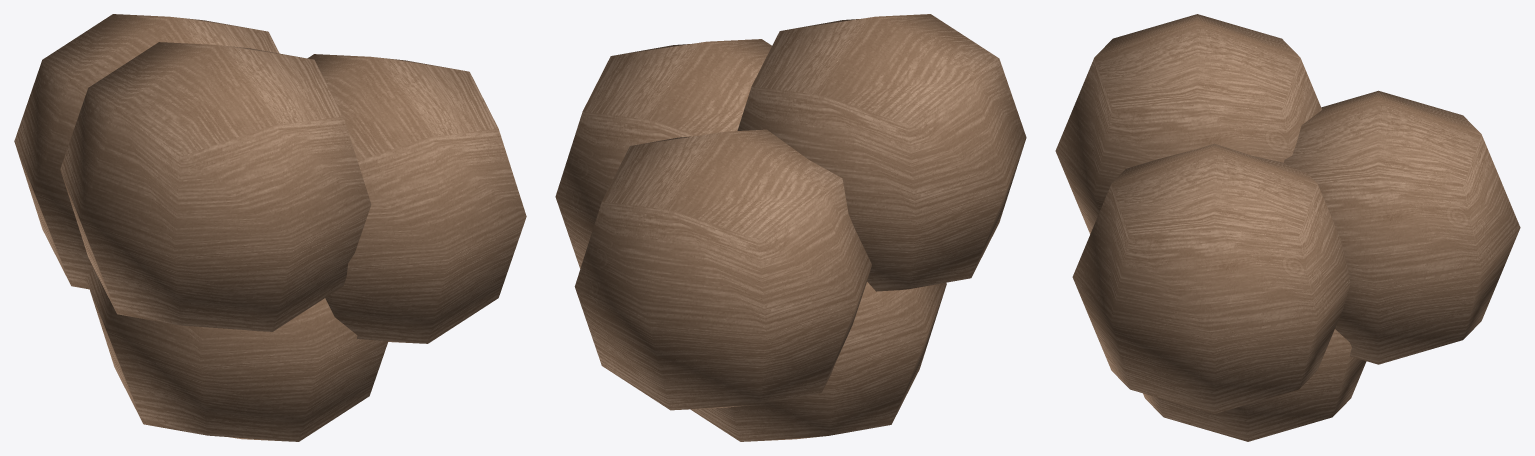
File: smoke_explosion cloud.obj
The picture shows the model from 3 angles, left to right: view 1: azimuth 30°, elevation 25°; view 2: azimuth 150°, elevation 25°; view 3: azimuth 270°, elevation 25°; orthographic projection. The views are drawn at different scales.
Visible parts, largest first — view 1: Cube.002; view 2: Cube.002; view 3: Cube.002.
Boxes of the visible parts, x1,y1,x2,y2 form: Cube.002: (14, 14, 526, 441); Cube.002: (555, 14, 1026, 441); Cube.002: (1055, 14, 1520, 441).
Bounding box in the file's own units: 2.7 × 2.53 × 2.75.
